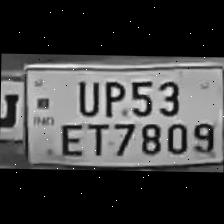0: (162, 117, 189, 151)
3: (153, 74, 182, 116)
5: (124, 74, 154, 115)
7: (107, 118, 134, 154)
8: (135, 116, 162, 153)
9: (189, 117, 216, 150)
E: (55, 118, 84, 155)
P: (97, 74, 126, 114)
T: (82, 118, 108, 154)
U: (72, 73, 102, 114)
